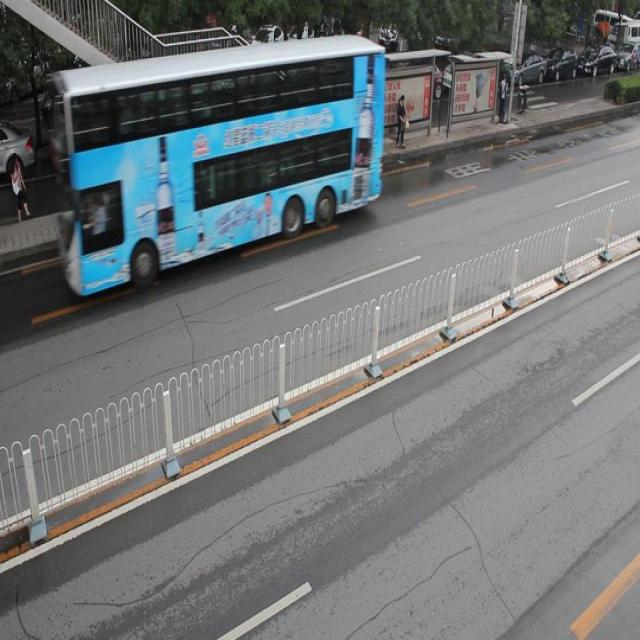car: (49, 105, 136, 172), (144, 92, 235, 147), (314, 62, 390, 121), (223, 98, 286, 166), (242, 72, 308, 130), (1, 126, 36, 181)
van: (49, 31, 386, 296)
